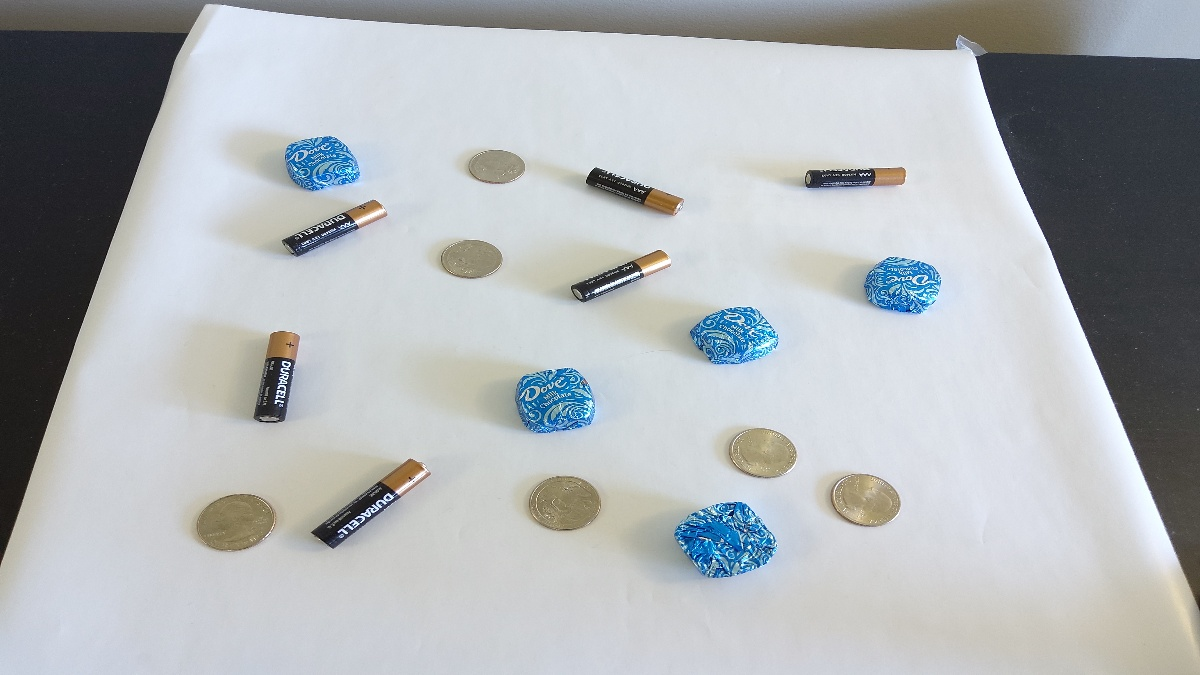battery: (308, 448, 441, 551), (268, 197, 390, 263), (564, 239, 674, 309), (576, 160, 693, 225), (792, 152, 925, 203), (251, 322, 312, 429)
chocolate_blue: (668, 495, 778, 583), (678, 299, 786, 371), (513, 361, 608, 439), (855, 252, 953, 323), (279, 128, 365, 198)
coin_quarter: (195, 487, 284, 559), (524, 470, 604, 541), (825, 465, 906, 534), (724, 419, 802, 485), (464, 136, 534, 193), (437, 237, 511, 283)
